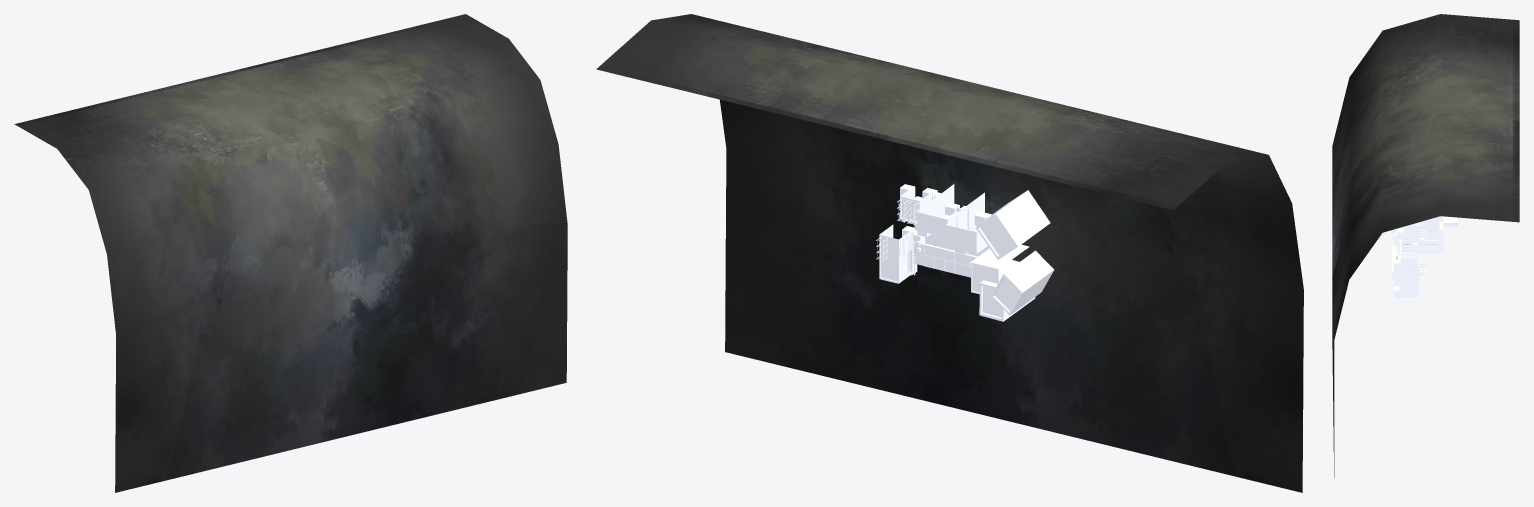
Rendered from BATTLE.fbx.
3 renders of one model, left to right at view 1: azimuth 30°, elevation 25°; view 2: azimuth 150°, elevation 25°; view 3: azimuth 270°, elevation 25°, orthographic. The views are drawn at different scales.
Parts seen in each view (by area): view 1: BG_Qcity; view 2: BG_Qcity, Shadow (1), Shadow (3), S_export_cube144, S_export_cube0, S_Outworld_prop_0374, Qcity_low:S_Outworld_21231, Shadow (4); view 3: BG_Qcity, S_export_cube0, Shadow (4), S_export_cube216, Qcity_low:S_Outworld_21231, S_export_cube144.
Part boxes in pixels (<box>): BG_Qcity: <box>14,14,567,492</box>; BG_Qcity: <box>596,14,1303,492</box>; Shadow (1): <box>975,190,1050,259</box>; Shadow (3): <box>990,250,1054,315</box>; S_export_cube144: <box>917,184,984,241</box>; S_export_cube0: <box>879,224,912,283</box>; S_Outworld_prop_0374: <box>945,202,987,253</box>; Qcity_low:S_Outworld_21231: <box>970,244,1029,294</box>; Shadow (4): <box>979,260,1035,321</box>; BG_Qcity: <box>1332,14,1519,477</box>; S_export_cube0: <box>1399,258,1419,297</box>; Shadow (4): <box>1402,222,1443,253</box>; S_export_cube216: <box>1399,222,1419,243</box>; Qcity_low:S_Outworld_21231: <box>1395,231,1438,244</box>; S_export_cube144: <box>1389,216,1439,230</box>.
Size of the model in its own units: 0.5573 by 0.3558 by 0.2179.
